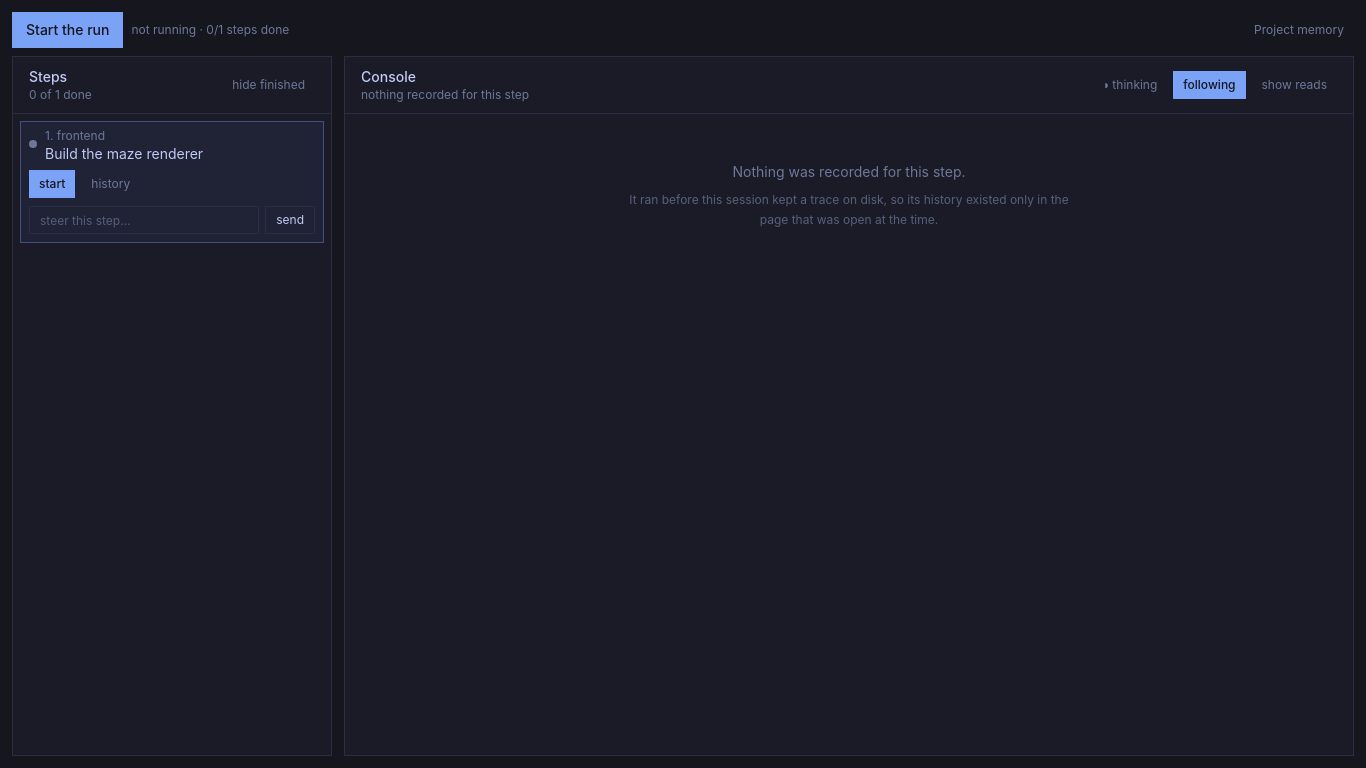
the run page's step actions › says so rather than showing an empty list when a step never ran
Check: the text "Build the maze renderer" is shown, box [45,145,203,162]
Click the button "history".
click(111, 184)  # box [81,170,140,198]
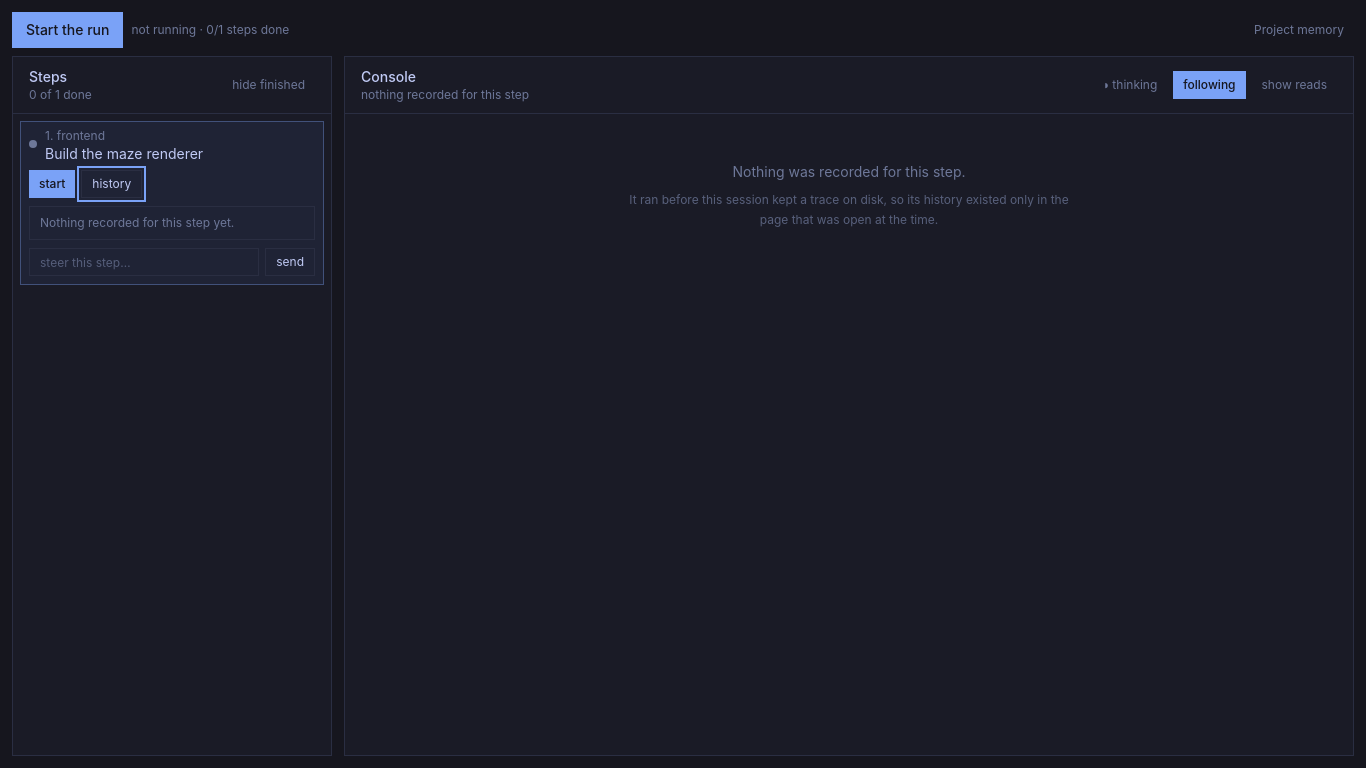
Check: the text "Nothing recorded for this step yet." is shown, box [40,215,234,230]
